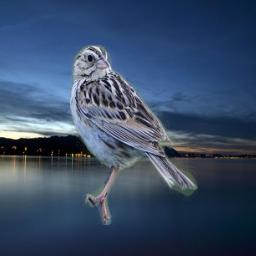Sparrow: (70, 45, 198, 225)
